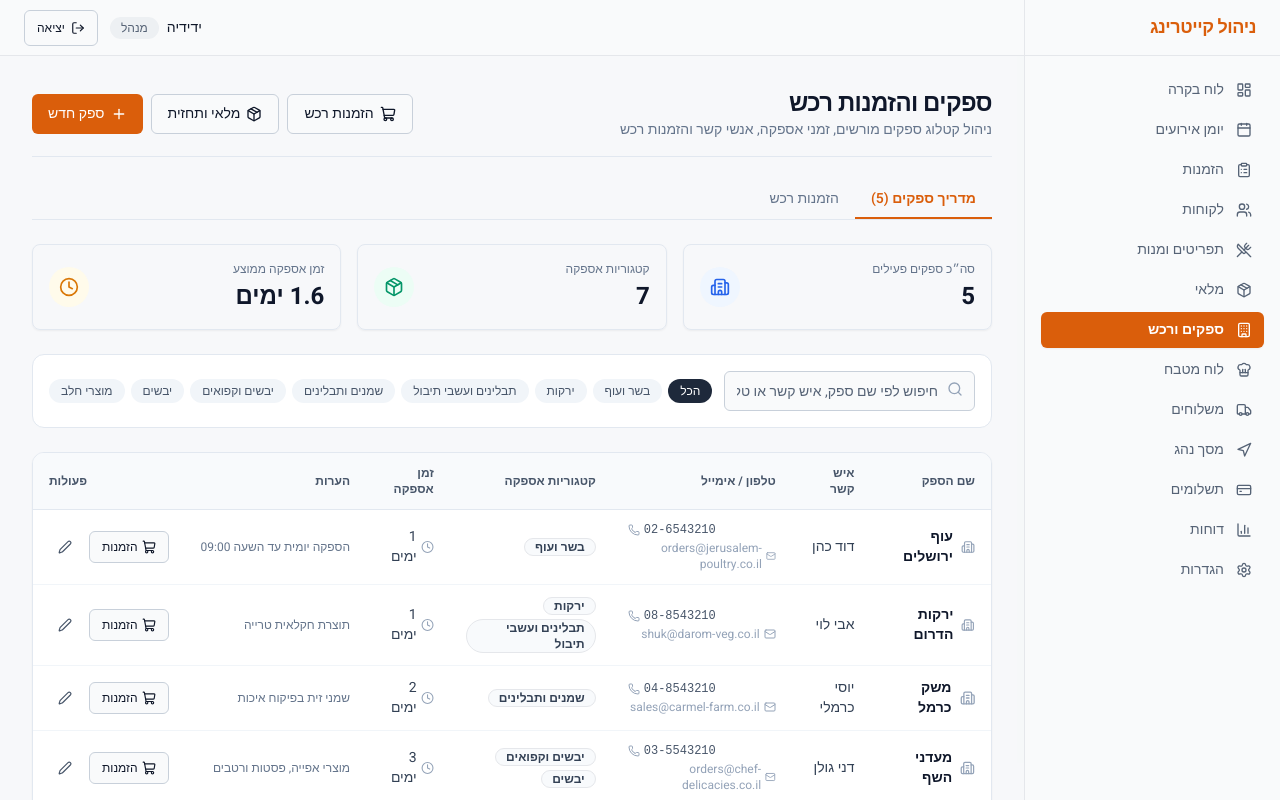
Test case: S11 Suppliers & Purchase Orders › filters suppliers by search query
Expected: the text "עוף ירושלים" is shown, [903, 526, 953, 567]
Type "כרמל" into the field with placeholder "חיפוש לפי שם ספק, איש קשר או טלפון..." at (850, 391), box [724, 371, 975, 411]
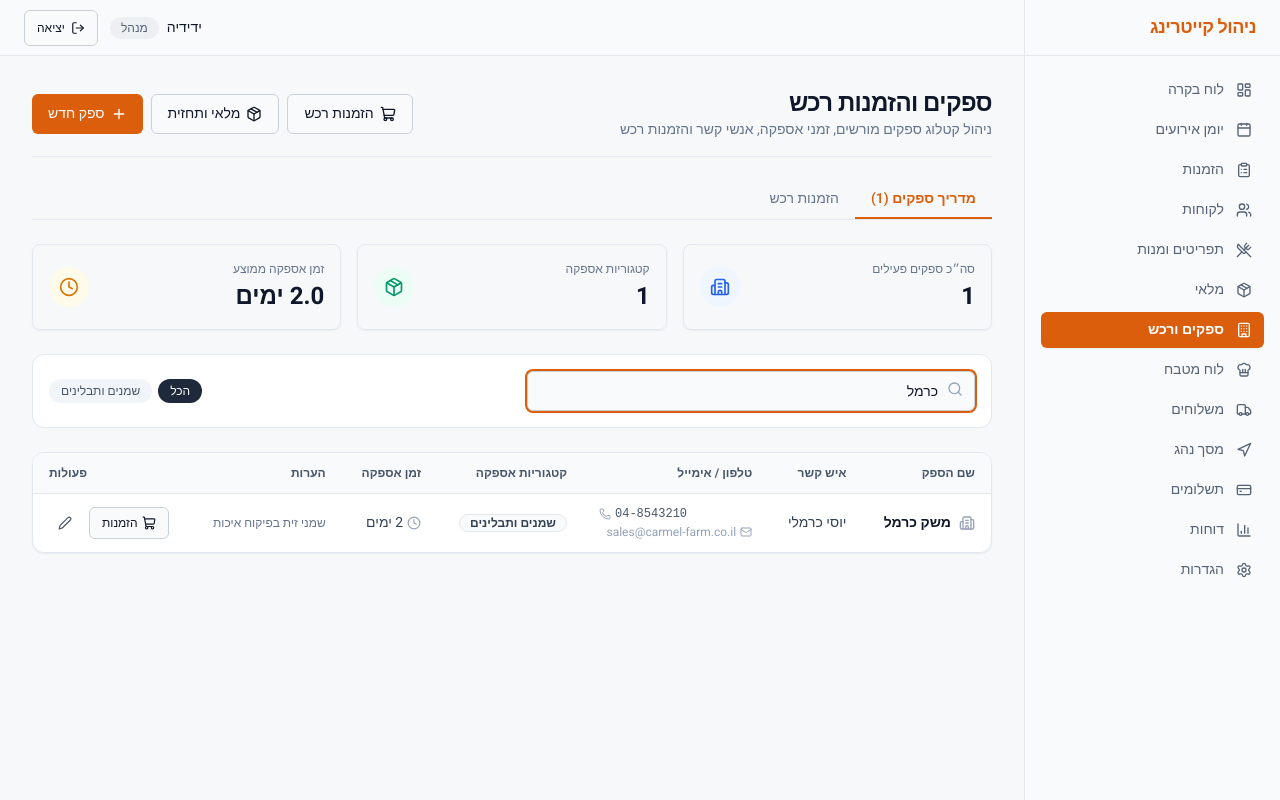
Expected: the text "משק כרמל" is shown, [884, 513, 951, 533]
Expected: the text "עוף ירושלים" is gone
